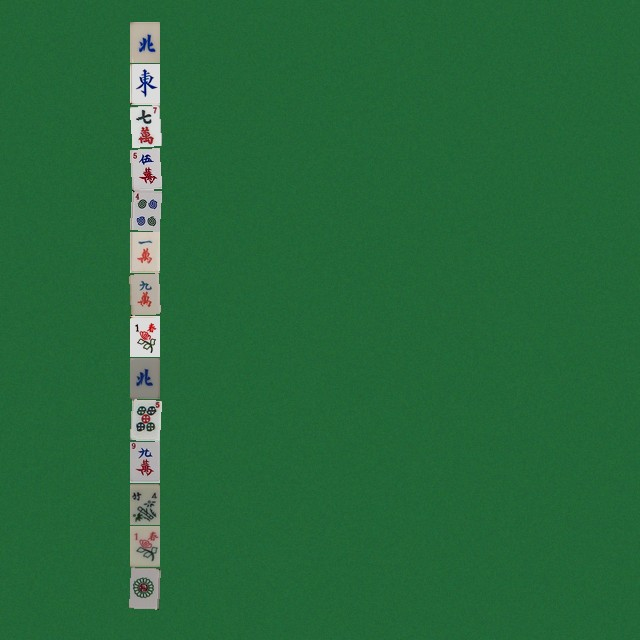tile: (129, 21, 159, 62), (129, 63, 159, 104), (129, 105, 159, 146), (129, 147, 159, 188), (129, 189, 159, 230), (129, 231, 159, 272), (129, 273, 159, 314), (129, 315, 159, 356), (129, 357, 159, 398), (129, 399, 159, 440), (129, 441, 159, 482), (129, 483, 159, 524), (129, 525, 159, 566), (129, 567, 159, 608)
